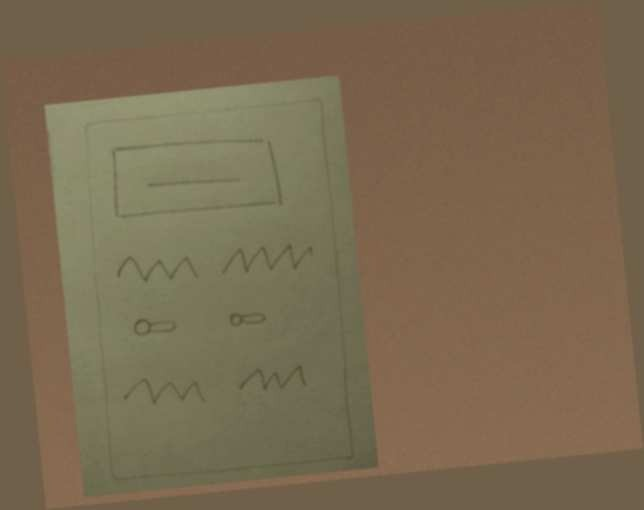button: (106, 123, 291, 227)
switch: (115, 302, 188, 349), (218, 301, 278, 342)
text: (214, 230, 318, 285), (119, 365, 210, 420), (108, 241, 203, 293), (225, 350, 315, 401)
